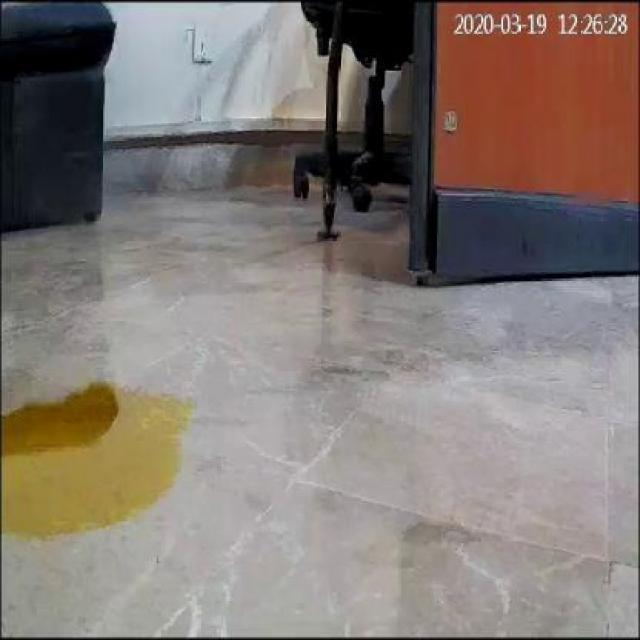spill: (3, 389, 188, 542)
